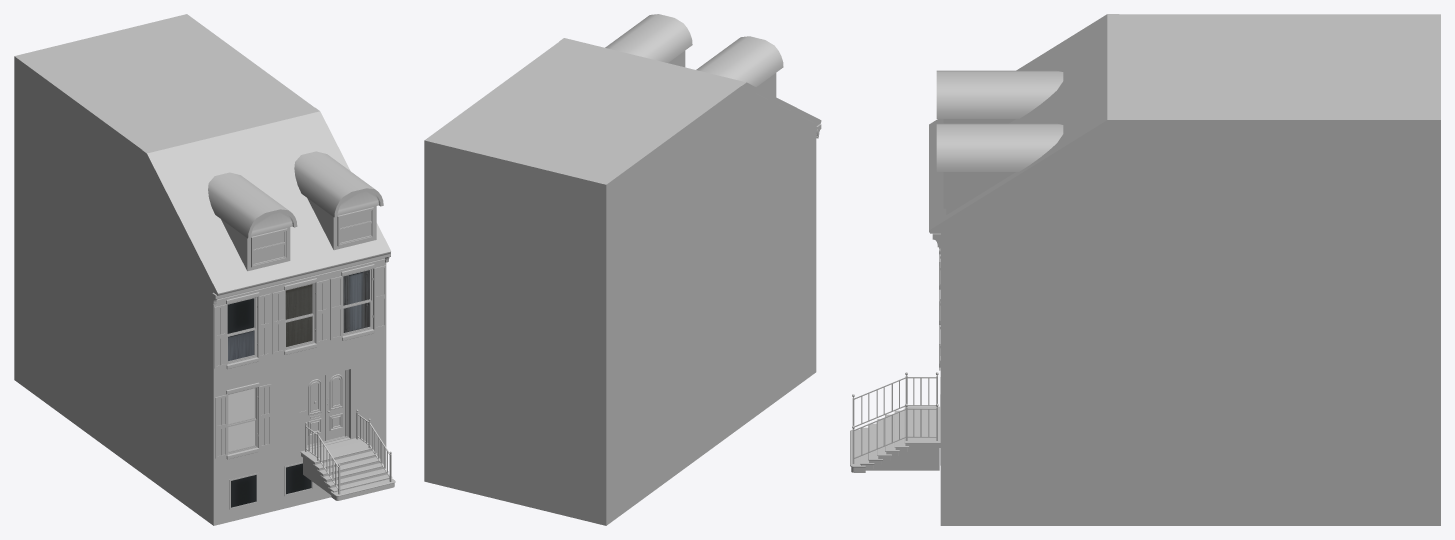
Rendered from House_03.fbx.
The picture shows the model from 3 angles, left to right: view 1: azimuth 30°, elevation 25°; view 2: azimuth 150°, elevation 25°; view 3: azimuth 270°, elevation 25°; orthographic projection. The views are drawn at different scales.
Parts seen in each view (by area): view 1: House_03_LOD0, Porch_03_LOD0.001, House_03_Door_01_LOD0.001; view 2: House_03_LOD0; view 3: House_03_LOD0, Porch_03_LOD0.001.
Boxes of the visible parts, bbox=[...] form: House_03_LOD0: bbox=[14, 14, 391, 525]; Porch_03_LOD0.001: bbox=[300, 409, 395, 500]; House_03_Door_01_LOD0.001: bbox=[326, 370, 345, 440]; House_03_LOD0: bbox=[424, 14, 821, 525]; House_03_LOD0: bbox=[929, 14, 1440, 525]; Porch_03_LOD0.001: bbox=[850, 372, 940, 472].
Size of what is drawn, in the model's own units: 609 by 1075 by 1418.
